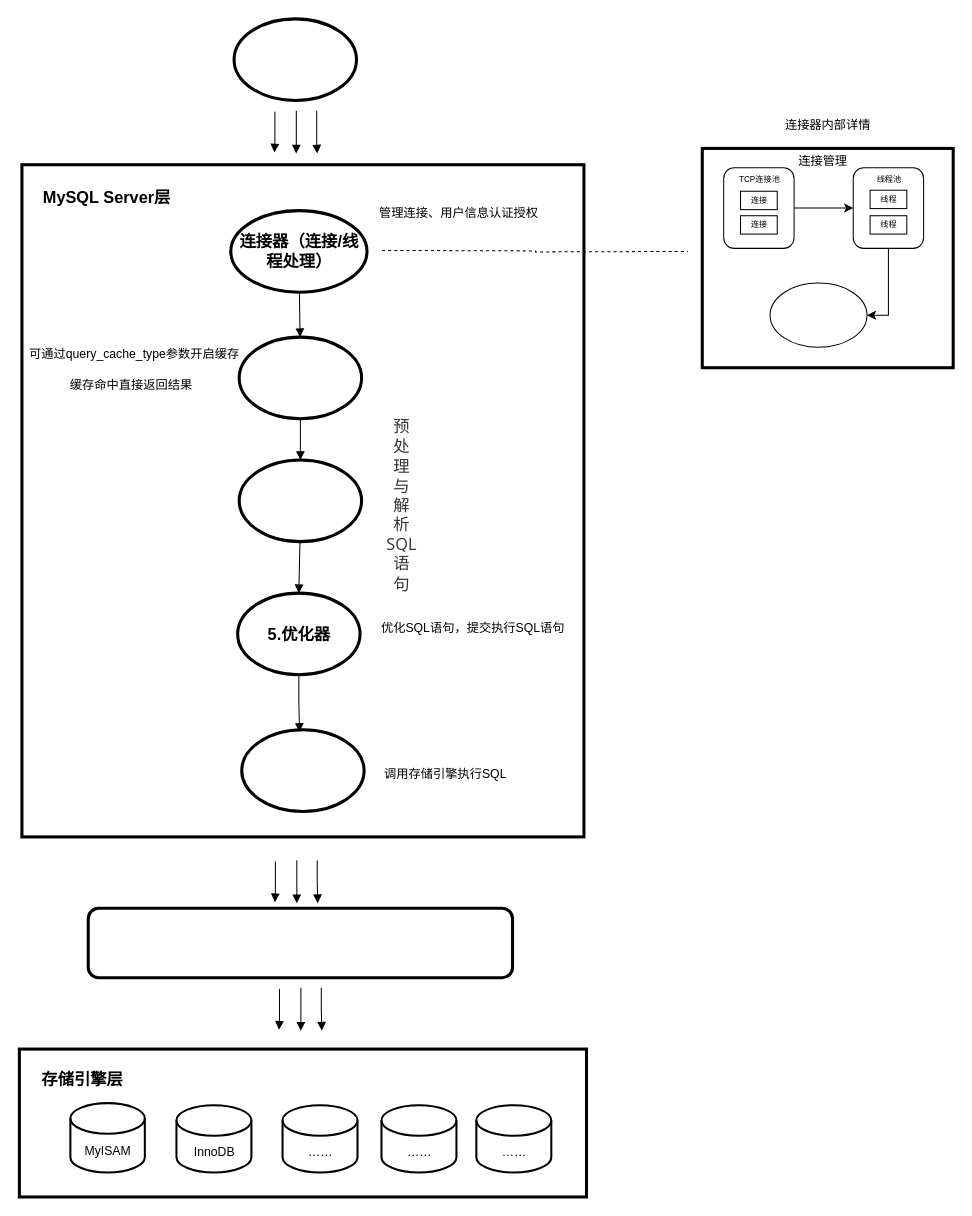
This 972x1216 diagram has some shape labels left out. The shapes that lost their labels are listed below. From the top down, each one's centre as x and y in pixels, then its label:
At (x=295, y=59): "1.客户端/系统".
At (x=818, y=314): "认证、权限获取".
At (x=300, y=377): "查询缓存".
At (x=300, y=500): "分析器".
At (x=302, y=770): "6.执行器".
At (x=300, y=942): "存储引擎API（一组接口或方法，用于执行数据存储和检索等操作这些 API的具体实现由存储引擎的开发者实现，以确保与存储引擎的特性和实现方式相匹配）".
